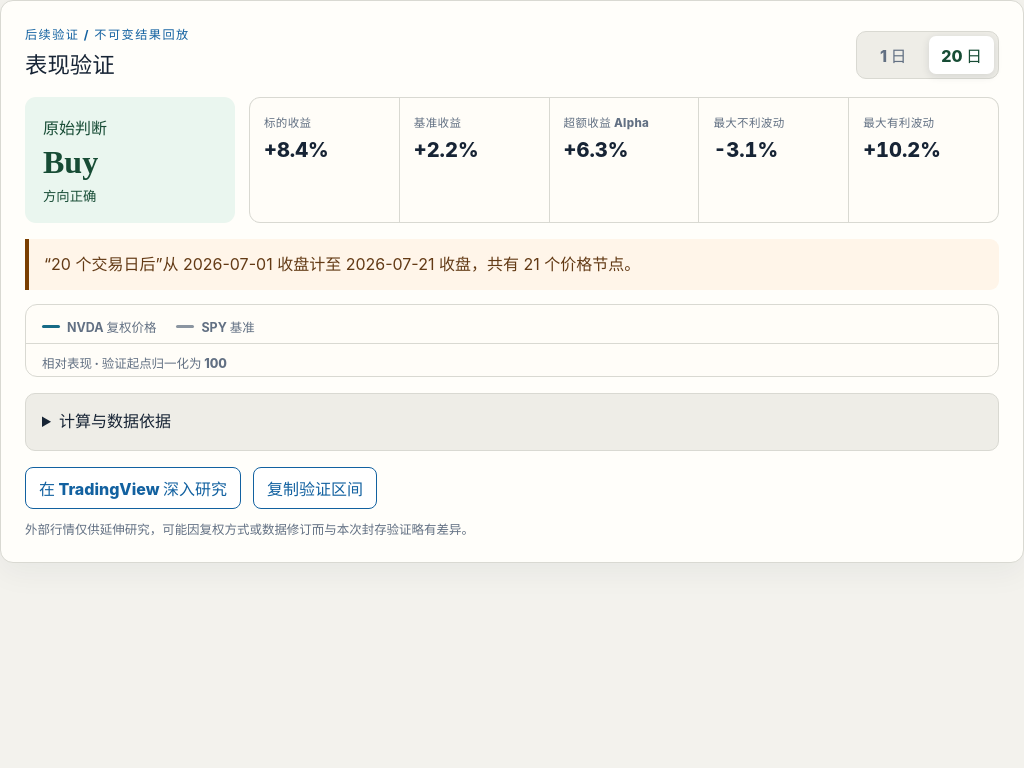
Test case: copies the exact immutable review range
Expected: the element with test id "validation-chart" is shown, [25, 304, 999, 377]
Click the button "复制验证区间".
click(315, 488)  # box [253, 467, 377, 509]
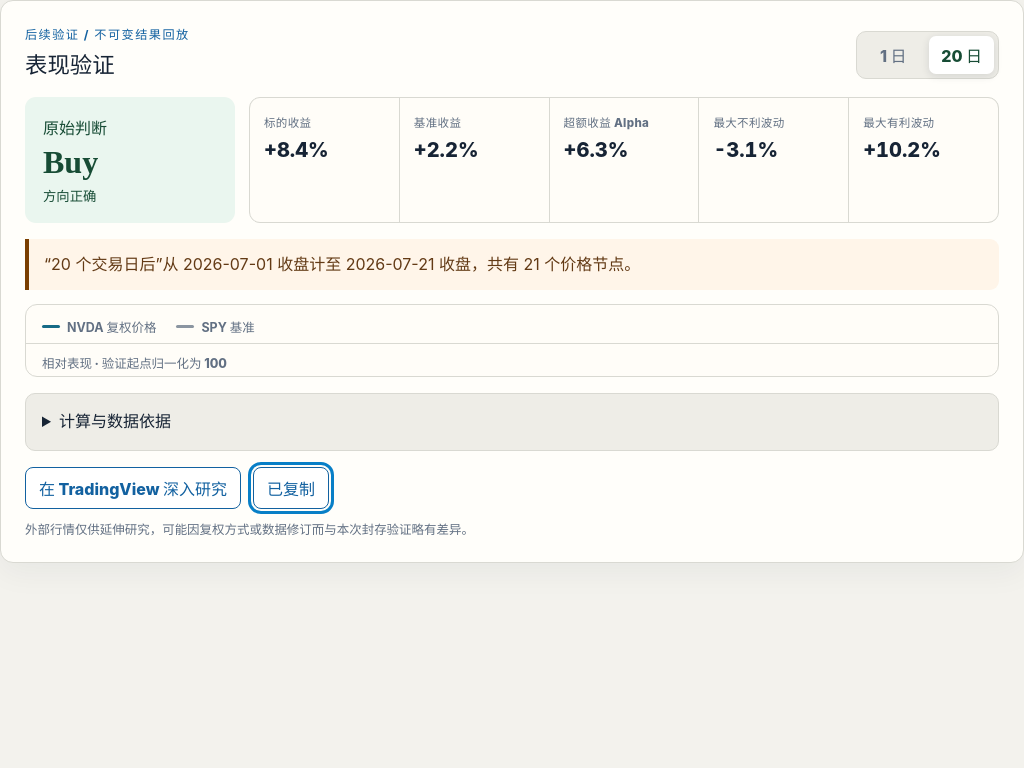
Now the button "已复制" is shown, box [253, 467, 329, 509]
